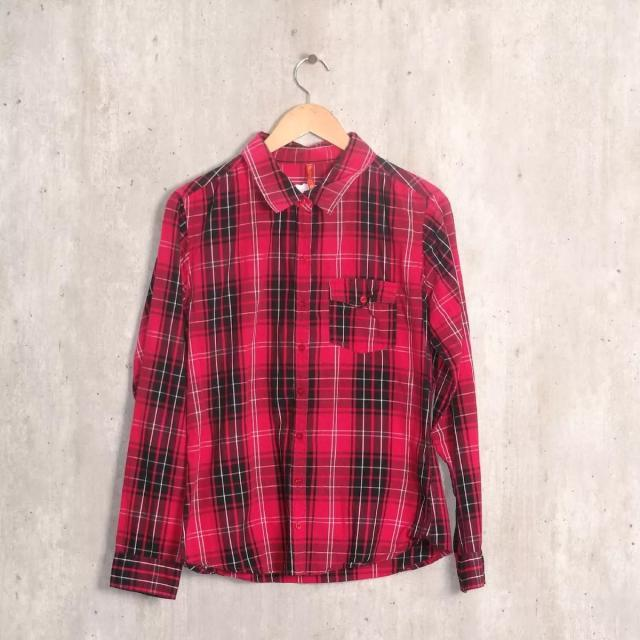long sleeve shirt: (106, 129, 489, 601)
